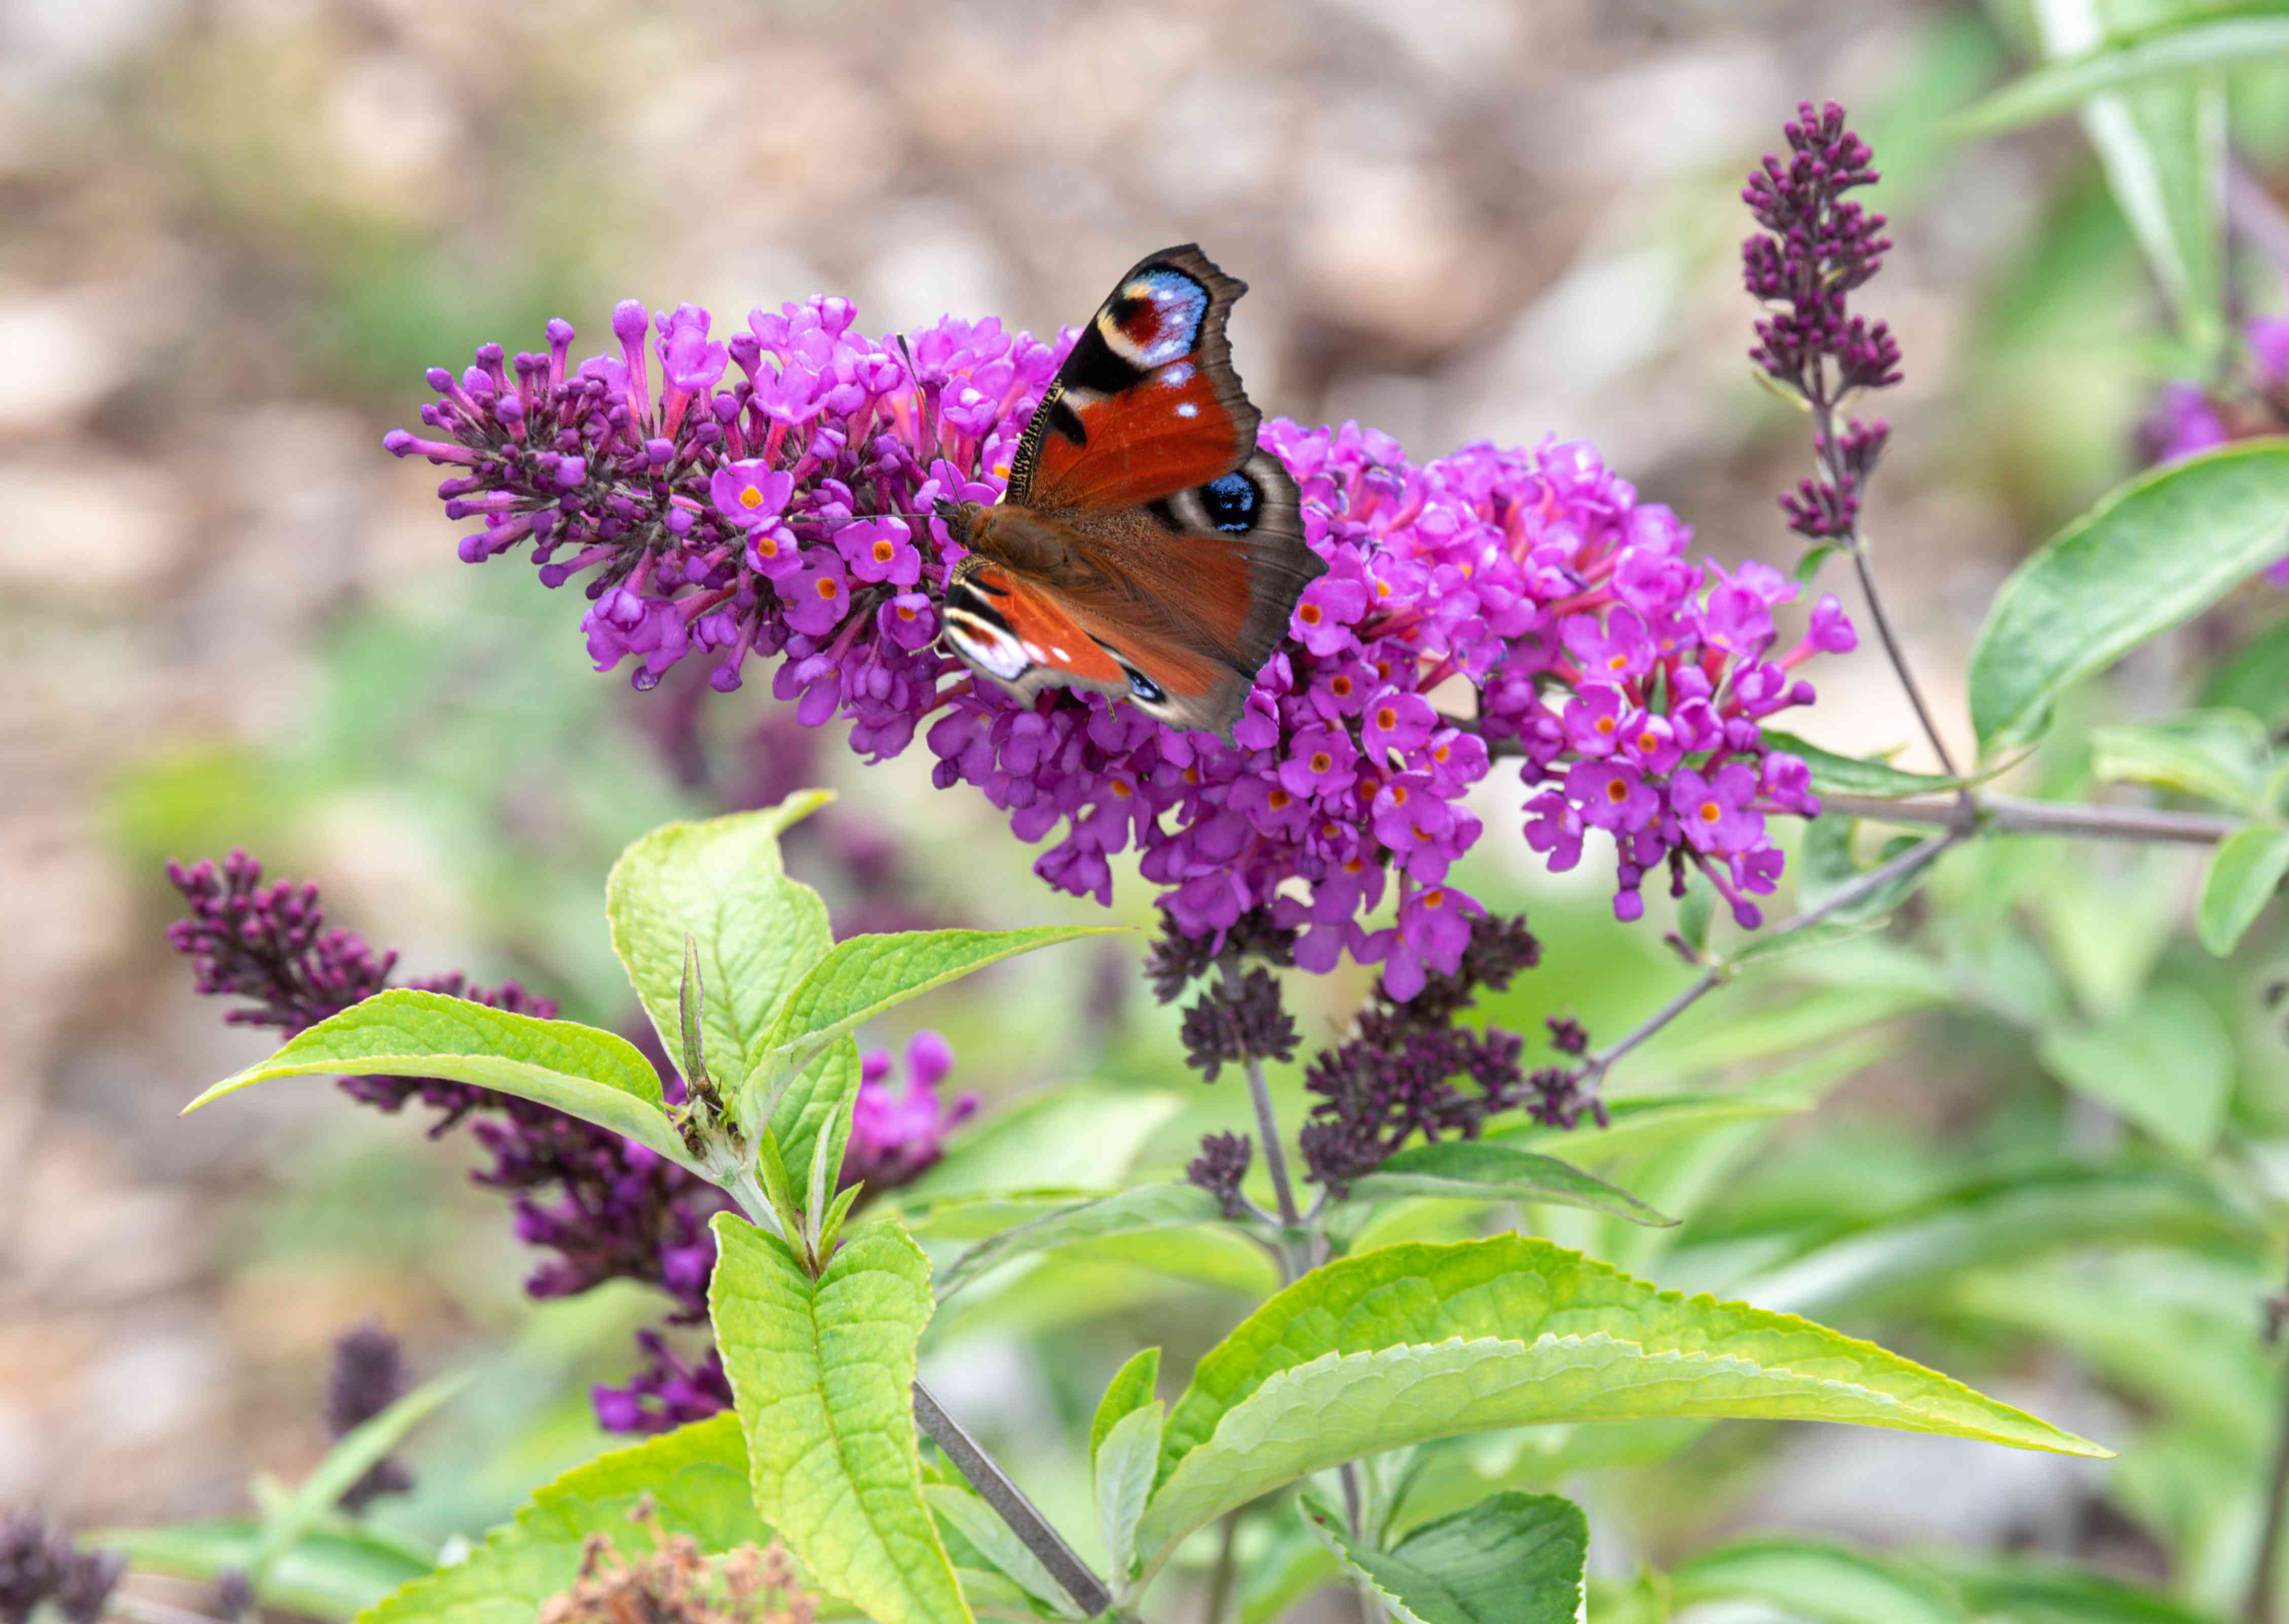Butterfly: (927, 236, 1331, 758)
